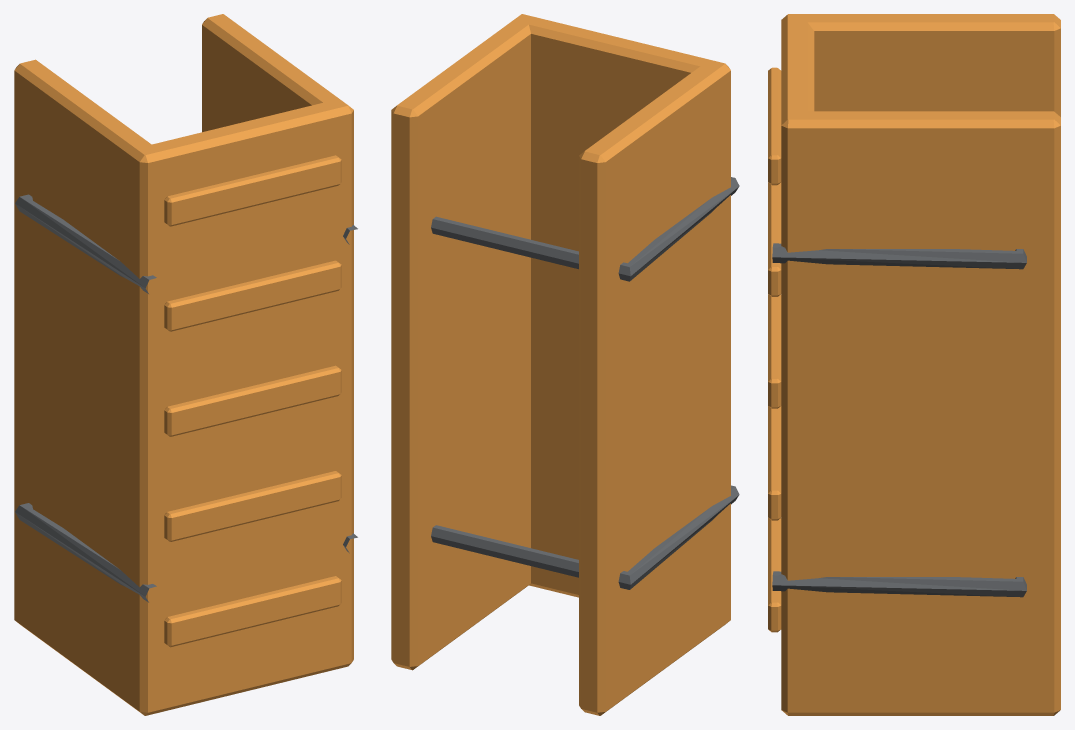
File: rack-column-protector.glb
3 renders of one model, left to right at view 1: azimuth 30°, elevation 25°; view 2: azimuth 150°, elevation 25°; view 3: azimuth 270°, elevation 25°, orthographic. The views are drawn at different scales.
Visible parts, largest first — view 1: rack-column-protector; view 2: rack-column-protector; view 3: rack-column-protector.
Boxes of the visible parts, bbox=[...] form: rack-column-protector: bbox=[14, 14, 357, 715]; rack-column-protector: bbox=[391, 14, 739, 715]; rack-column-protector: bbox=[768, 14, 1060, 715].
Bounding box in the file's own units: 0.1782 × 0.4 × 0.178.
